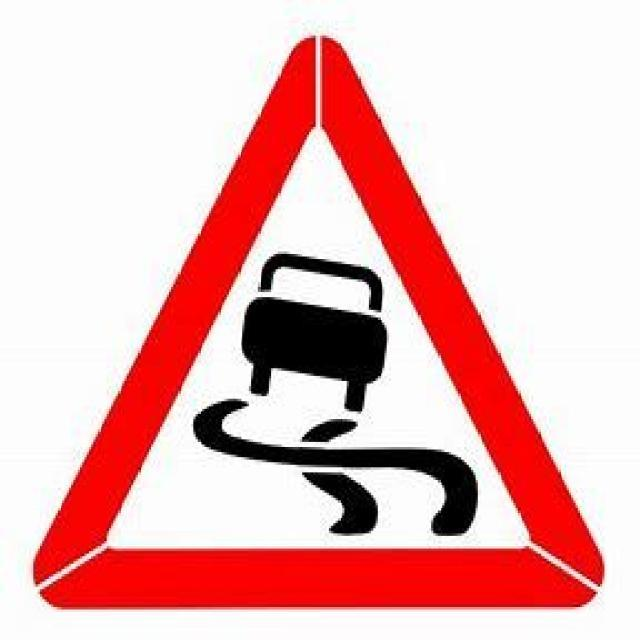slippery road: (34, 26, 604, 616)
